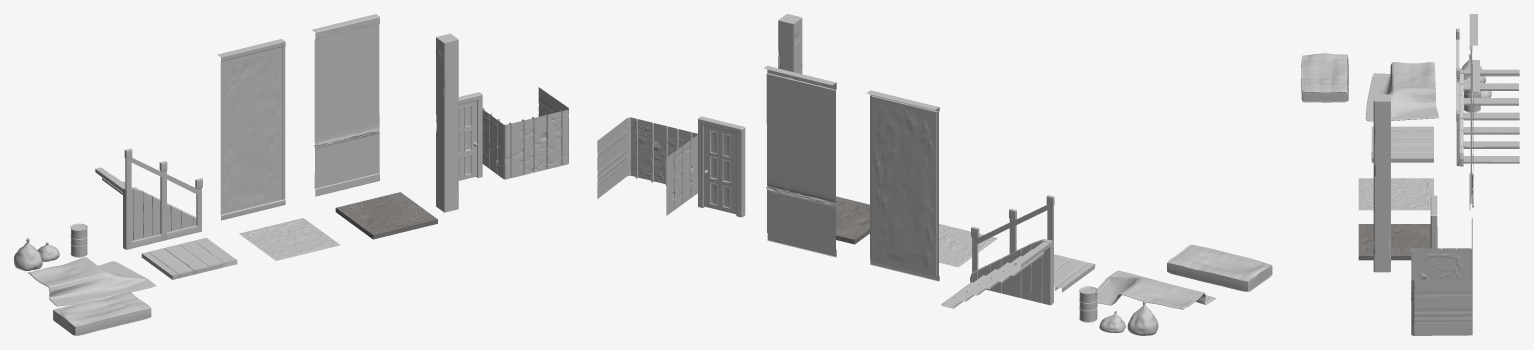
The model's file is ModularProps_ForExport.fbx.
3 views of the same model, side by side, from view 1: azimuth 30°, elevation 25°; view 2: azimuth 150°, elevation 25°; view 3: azimuth 270°, elevation 25° (orthographic). The views are drawn at different scales.
Parts seen in each view (by area): view 1: ConcreteWall, DirtWall, WoodPlatform, Stairs_ToTexture, Column, Blanket_ToTexture, ConcreteFloor2, Mattress_ToTexture, DirtFloor, WoodWalkway, DoorAndFrame_ToTexture, TrashBag_ToTexture (+1 smaller); view 2: ConcreteWall, DirtWall, WoodPlatform, Stairs_ToTexture, DoorAndFrame_ToTexture, Mattress_ToTexture, Blanket_ToTexture, Column, ConcreteFloor2, DirtFloor, WoodWalkway, TrashBag_ToTexture (+1 smaller); view 3: WoodPlatform, Stairs_ToTexture, Blanket_ToTexture, Column, Mattress_ToTexture, DirtFloor, ConcreteFloor2, WoodWalkway, DirtWall, ConcreteWall, DoorAndFrame_ToTexture, ChemicalDrum_ToTexture.
Boxes of the visible parts, x1,y1,x2,y2 form: ConcreteWall: [311, 14, 379, 196]; DirtWall: [217, 39, 285, 220]; WoodPlatform: [482, 87, 568, 179]; Stairs_ToTexture: [95, 148, 202, 249]; Column: [436, 33, 458, 212]; Blanket_ToTexture: [28, 257, 155, 306]; ConcreteFloor2: [335, 192, 437, 239]; Mattress_ToTexture: [53, 291, 151, 335]; DirtFloor: [239, 218, 340, 260]; WoodWalkway: [141, 237, 237, 279]; DoorAndFrame_ToTexture: [458, 92, 482, 180]; TrashBag_ToTexture: [14, 238, 42, 270]; ConcreteWall: [763, 65, 836, 257]; DirtWall: [866, 90, 939, 281]; WoodPlatform: [597, 117, 697, 215]; Stairs_ToTexture: [941, 195, 1054, 308]; DoorAndFrame_ToTexture: [698, 116, 745, 217]; Mattress_ToTexture: [1167, 244, 1272, 291]; Blanket_ToTexture: [1097, 270, 1215, 309]; Column: [778, 14, 802, 73]; ConcreteFloor2: [835, 196, 869, 244]; DirtFloor: [939, 224, 997, 267]; WoodWalkway: [1054, 254, 1095, 292]; TrashBag_ToTexture: [1127, 300, 1158, 335]; WoodPlatform: [1411, 248, 1472, 335]; Stairs_ToTexture: [1456, 28, 1519, 166]; Blanket_ToTexture: [1365, 62, 1439, 121]; Column: [1373, 94, 1390, 272]; Mattress_ToTexture: [1301, 53, 1348, 102]; DirtFloor: [1358, 178, 1433, 210]; ConcreteFloor2: [1358, 224, 1430, 260]; WoodWalkway: [1371, 126, 1433, 162]; DirtWall: [1469, 14, 1477, 210]; ConcreteWall: [1471, 60, 1479, 249]; DoorAndFrame_ToTexture: [1430, 195, 1437, 248]; ChemicalDrum_ToTexture: [1463, 78, 1480, 112].
Size of the model in its own units: 16.99 by 5.07 by 5.79.
